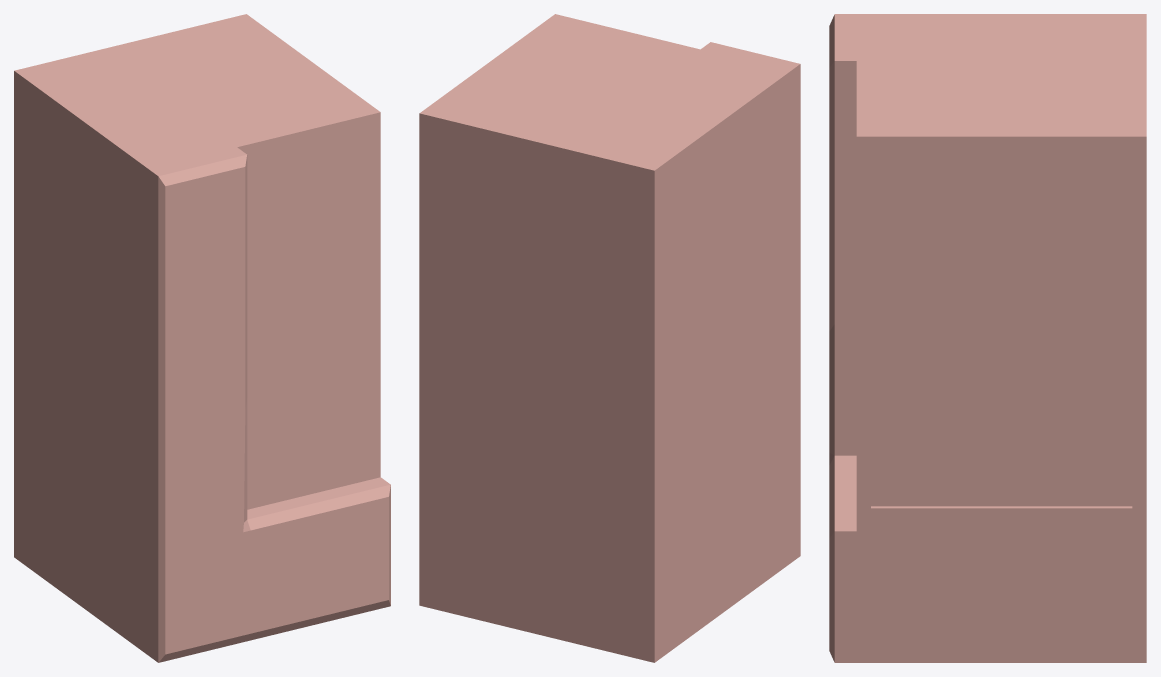
Rendered from Eco.fbx.
3 renders of one model, left to right at view 1: azimuth 30°, elevation 25°; view 2: azimuth 150°, elevation 25°; view 3: azimuth 270°, elevation 25°, orthographic. The views are drawn at different scales.
Parts seen in each view (by area): view 1: Jardim; view 2: Jardim; view 3: Jardim.
Part boxes in pixels (bbox=[...]): Jardim: bbox=[14, 14, 390, 662]; Jardim: bbox=[419, 14, 800, 662]; Jardim: bbox=[829, 14, 1146, 662].
Size of the model in its own units: 135 by 270 by 148.
